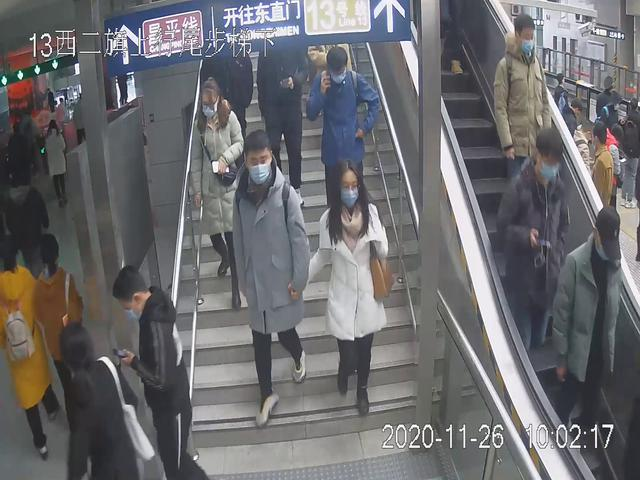person: (289, 157, 396, 426), (229, 127, 316, 424), (107, 255, 209, 480), (549, 202, 624, 466), (493, 124, 567, 389), (51, 318, 158, 480), (491, 9, 558, 249), (304, 44, 379, 246), (191, 70, 253, 312), (1, 231, 63, 469), (254, 42, 315, 210)
